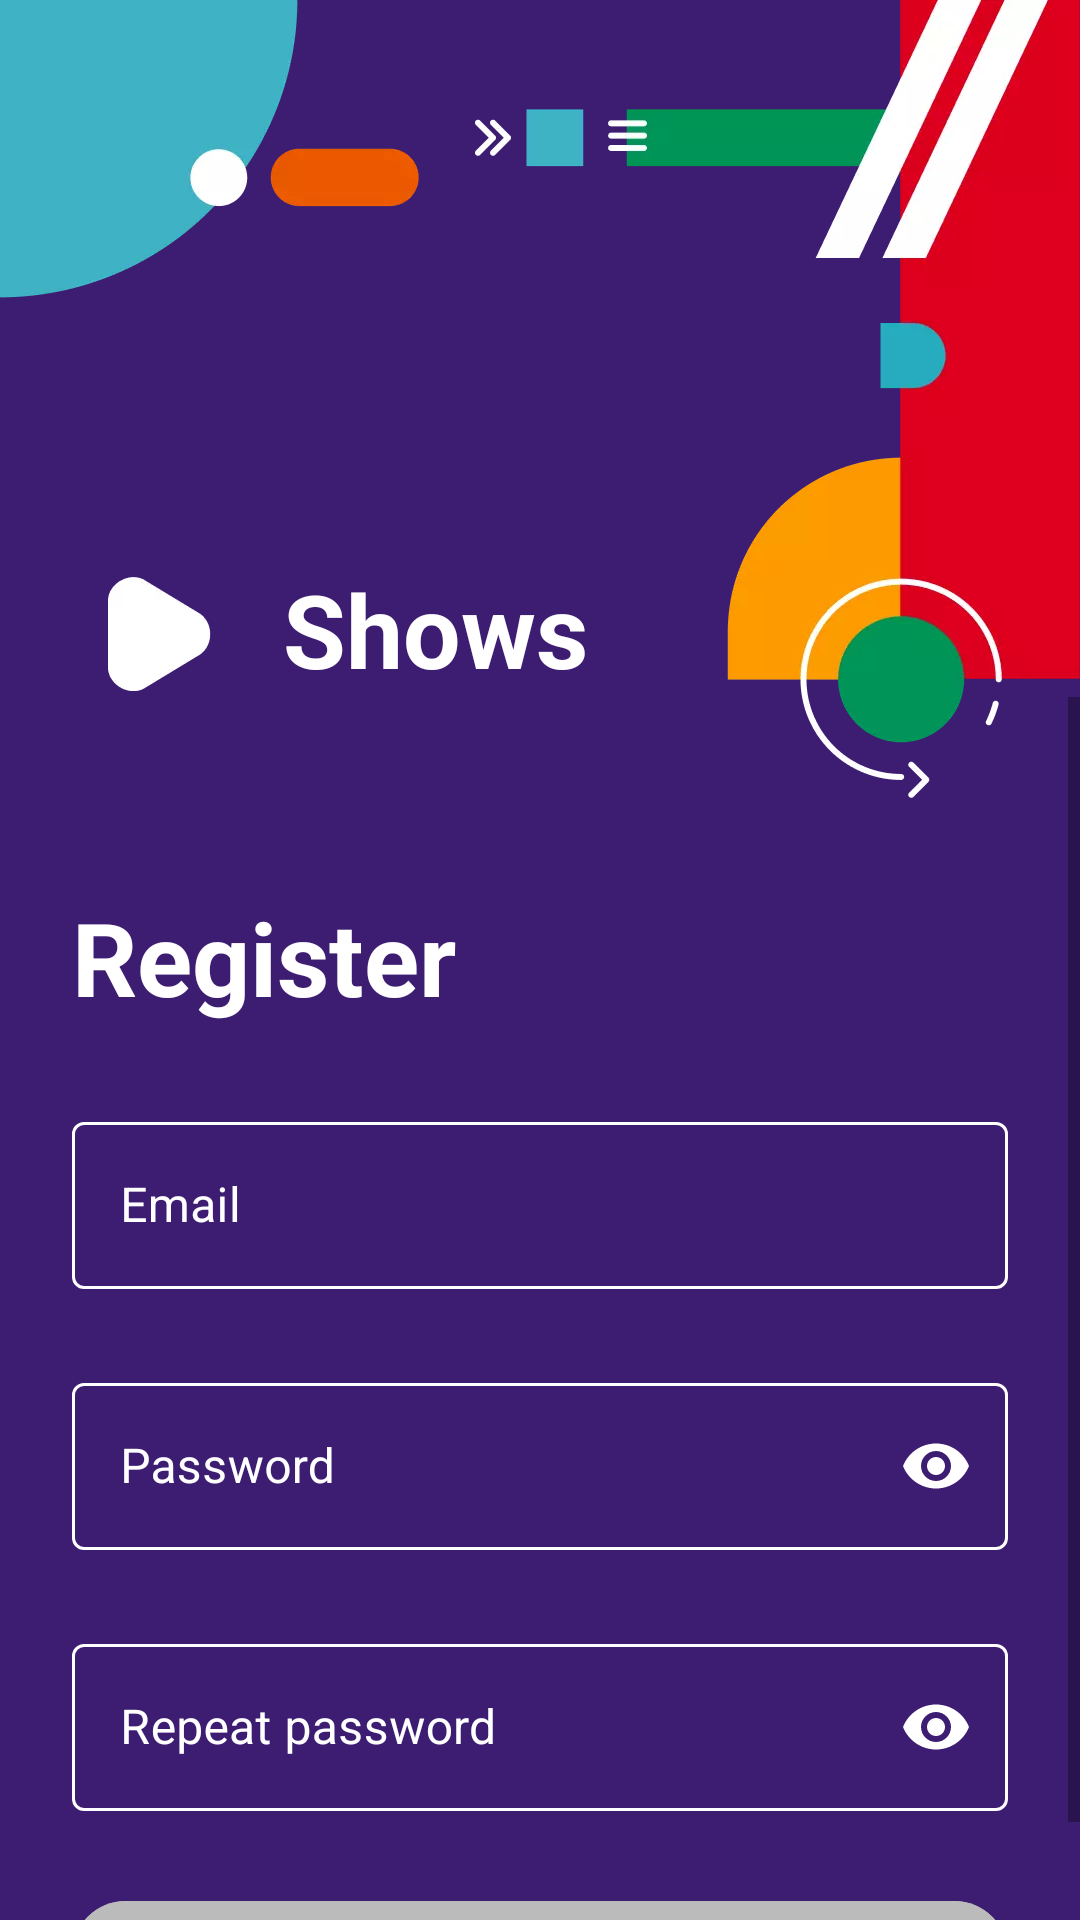

Where icons sit on this 1080 x 1920 app screen, as (x1=x1, y1=y1, x2=x2, y2=y2):
play for title: (x1=108, y1=577, x2=211, y2=691)
